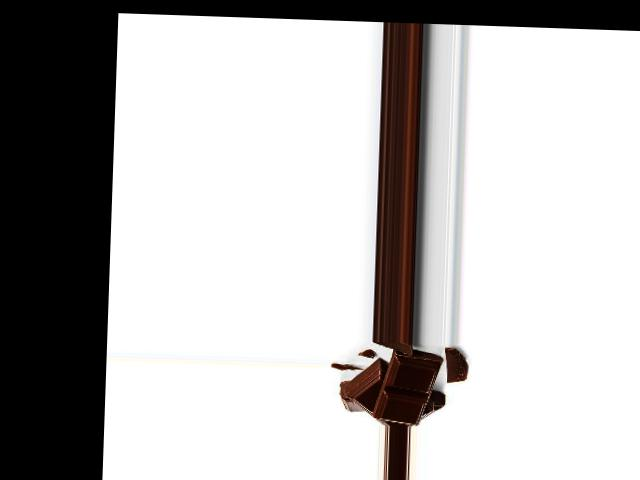chocolate: (371, 350, 440, 423)
